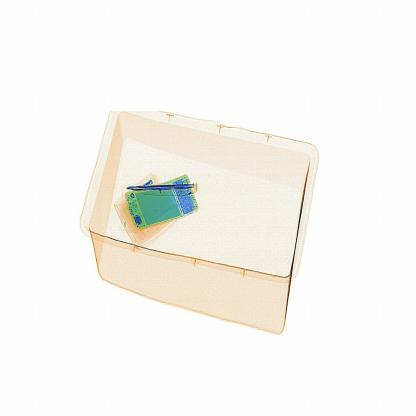pliers: (125, 170, 201, 207)
